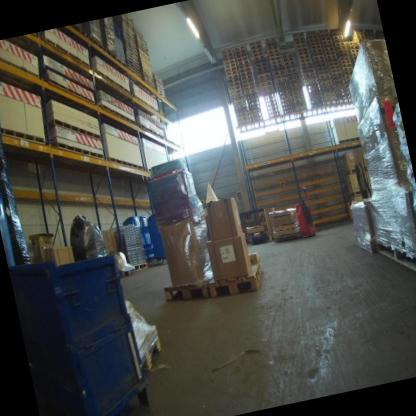pallet: (203, 253, 268, 301), (161, 267, 219, 309), (372, 227, 416, 279), (305, 28, 343, 78), (133, 322, 167, 377), (271, 228, 300, 245), (88, 35, 105, 53), (247, 233, 268, 247), (118, 264, 135, 278), (104, 47, 117, 63), (131, 260, 148, 272), (350, 27, 364, 40), (115, 54, 127, 69), (350, 30, 365, 42), (272, 68, 287, 77), (303, 77, 318, 86), (317, 76, 332, 85), (316, 72, 331, 81), (233, 102, 247, 111), (288, 77, 302, 86), (302, 70, 316, 79), (319, 79, 333, 88), (232, 44, 247, 52), (257, 75, 272, 83), (315, 68, 330, 76), (281, 51, 294, 60), (329, 66, 342, 75), (232, 99, 246, 107), (230, 91, 244, 99), (228, 83, 242, 91), (225, 68, 239, 76), (243, 87, 257, 95), (241, 77, 255, 85), (240, 73, 254, 81), (239, 69, 253, 77), (238, 65, 252, 73), (237, 62, 251, 70), (257, 72, 271, 80), (254, 57, 268, 65), (274, 76, 288, 84), (273, 72, 287, 80), (271, 65, 285, 73), (270, 61, 284, 69), (269, 54, 283, 62), (268, 51, 282, 59), (289, 81, 303, 89), (303, 74, 317, 82), (301, 67, 315, 75), (300, 63, 314, 71), (299, 60, 313, 68), (298, 56, 312, 64), (297, 52, 311, 60), (295, 45, 309, 53), (294, 42, 308, 50), (293, 38, 307, 46), (324, 97, 338, 105), (323, 94, 337, 102), (322, 91, 336, 99), (321, 87, 335, 95), (320, 83, 334, 91), (313, 61, 327, 69), (312, 57, 326, 65), (311, 53, 325, 61), (310, 49, 324, 57), (309, 46, 323, 54), (308, 42, 322, 50), (306, 36, 320, 44), (305, 33, 319, 41), (342, 68, 354, 77), (339, 57, 351, 66), (338, 53, 350, 62), (336, 46, 348, 55), (223, 65, 238, 72), (255, 64, 270, 71), (226, 72, 239, 80), (270, 58, 283, 66), (266, 43, 279, 51), (294, 100, 307, 108), (293, 96, 306, 104), (292, 93, 305, 101), (291, 89, 304, 97), (290, 85, 303, 93), (287, 74, 300, 82), (286, 70, 299, 78), (285, 66, 298, 74), (284, 62, 297, 70), (282, 55, 295, 63), (265, 39, 278, 47), (292, 31, 305, 39), (328, 63, 341, 71), (324, 52, 337, 60), (321, 41, 334, 49), (319, 34, 332, 42), (317, 27, 330, 35), (231, 95, 245, 102), (229, 88, 243, 95), (227, 80, 241, 87), (226, 76, 240, 83), (223, 61, 237, 68), (221, 54, 235, 61), (242, 84, 256, 91), (241, 81, 255, 88), (236, 59, 250, 66), (234, 48, 248, 55), (259, 80, 273, 87), (256, 68, 270, 75), (255, 61, 269, 68), (248, 39, 262, 46), (266, 47, 280, 54), (296, 49, 310, 56), (291, 35, 305, 42), (314, 65, 328, 72), (307, 40, 321, 47), (327, 59, 339, 67), (326, 56, 338, 64), (324, 48, 336, 56), (341, 65, 353, 73), (340, 61, 352, 69), (337, 50, 349, 58), (335, 44, 347, 52), (354, 34, 366, 42), (365, 33, 377, 41), (237, 118, 250, 125), (236, 115, 249, 122), (235, 111, 248, 118), (234, 107, 247, 114), (221, 51, 234, 58), (220, 47, 233, 54), (236, 55, 249, 62), (235, 52, 248, 59), (253, 54, 266, 61), (252, 50, 265, 57), (295, 104, 308, 111), (283, 59, 296, 66), (264, 36, 277, 43), (320, 38, 333, 45), (334, 40, 345, 48), (332, 33, 343, 41), (222, 58, 236, 64), (250, 43, 262, 50), (323, 45, 335, 52), (318, 31, 330, 38), (251, 47, 264, 53), (333, 37, 344, 44), (349, 50, 360, 57), (355, 37, 366, 44), (364, 30, 375, 37), (348, 44, 358, 51), (349, 48, 359, 54), (350, 54, 358, 61), (347, 41, 356, 47)
pallet_truck: (284, 184, 317, 241)
